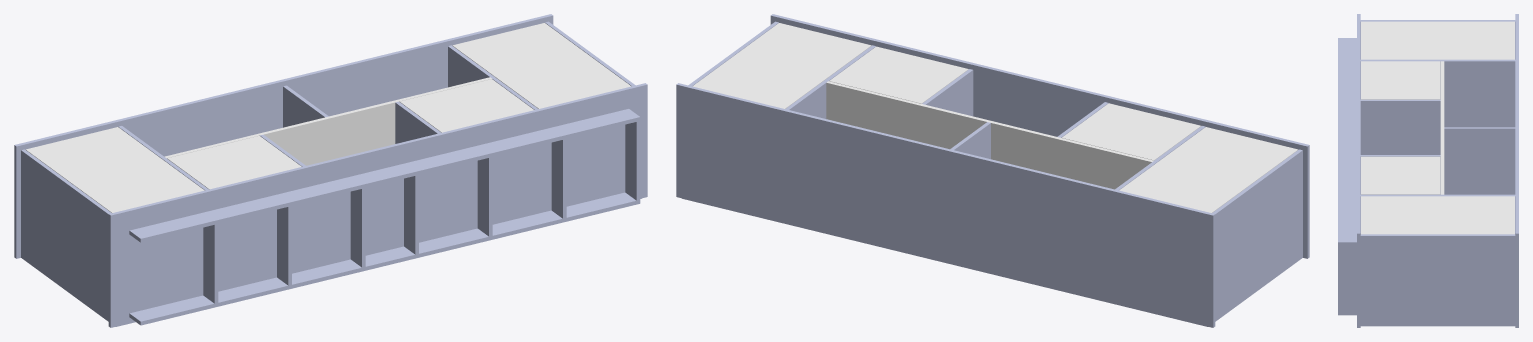
Rendered from tv_stand.dae.
3 views of the same model, side by side, from view 1: azimuth 30°, elevation 25°; view 2: azimuth 150°, elevation 25°; view 3: azimuth 270°, elevation 25° (orthographic). The views are drawn at different scales.
Parts seen in each view (by area): view 1: node0, node14, node10, node22, node23, node9, node1, node16, node24, node25, node13, node3 (+8 smaller); view 2: node14, node16, node0, node10, node22, node23, node25, node24, node18, node13, node19, node15; view 3: node11, node22, node23, node12, node19, node17, node9, node24, node25, node2, node0, node14 (+5 smaller).
Boxes of the visible parts, left/top/right/bottom form: node0: left=108, top=83, right=647, bottom=327; node14: left=14, top=14, right=553, bottom=258; node10: left=21, top=149, right=111, bottom=321; node22: left=452, top=23, right=631, bottom=108; node23: left=25, top=127, right=204, bottom=212; node9: left=129, top=109, right=640, bottom=242; node1: left=129, top=192, right=640, bottom=325; node16: left=164, top=77, right=491, bottom=165; node24: left=167, top=136, right=301, bottom=189; node25: left=400, top=79, right=533, bottom=132; node13: left=448, top=45, right=538, bottom=109; node3: left=203, top=224, right=218, bottom=303; node14: left=676, top=83, right=1215, bottom=327; node16: left=826, top=81, right=1153, bottom=189; node0: left=770, top=14, right=1309, bottom=258; node10: left=1212, top=149, right=1302, bottom=321; node22: left=692, top=23, right=871, bottom=108; node23: left=1119, top=127, right=1298, bottom=212; node25: left=829, top=46, right=968, bottom=103; node24: left=1062, top=103, right=1200, bottom=160; node18: left=922, top=69, right=973, bottom=116; node13: left=785, top=45, right=875, bottom=118; node19: left=950, top=122, right=990, bottom=159; node15: left=682, top=198, right=1207, bottom=326; node11: left=1360, top=234, right=1515, bottom=325; node22: left=1361, top=196, right=1514, bottom=234; node23: left=1361, top=21, right=1514, bottom=59; node12: left=1360, top=59, right=1515, bottom=127; node19: left=1444, top=127, right=1515, bottom=194; node17: left=1360, top=99, right=1440, bottom=154; node9: left=1338, top=38, right=1356, bottom=245; node24: left=1361, top=61, right=1440, bottom=99; node25: left=1361, top=156, right=1440, bottom=194; node2: left=1338, top=245, right=1356, bottom=311; node0: left=1357, top=14, right=1360, bottom=327; node14: left=1515, top=14, right=1518, bottom=327.
Size of the model in its own units: 2.3 by 0.8 by 0.463.
